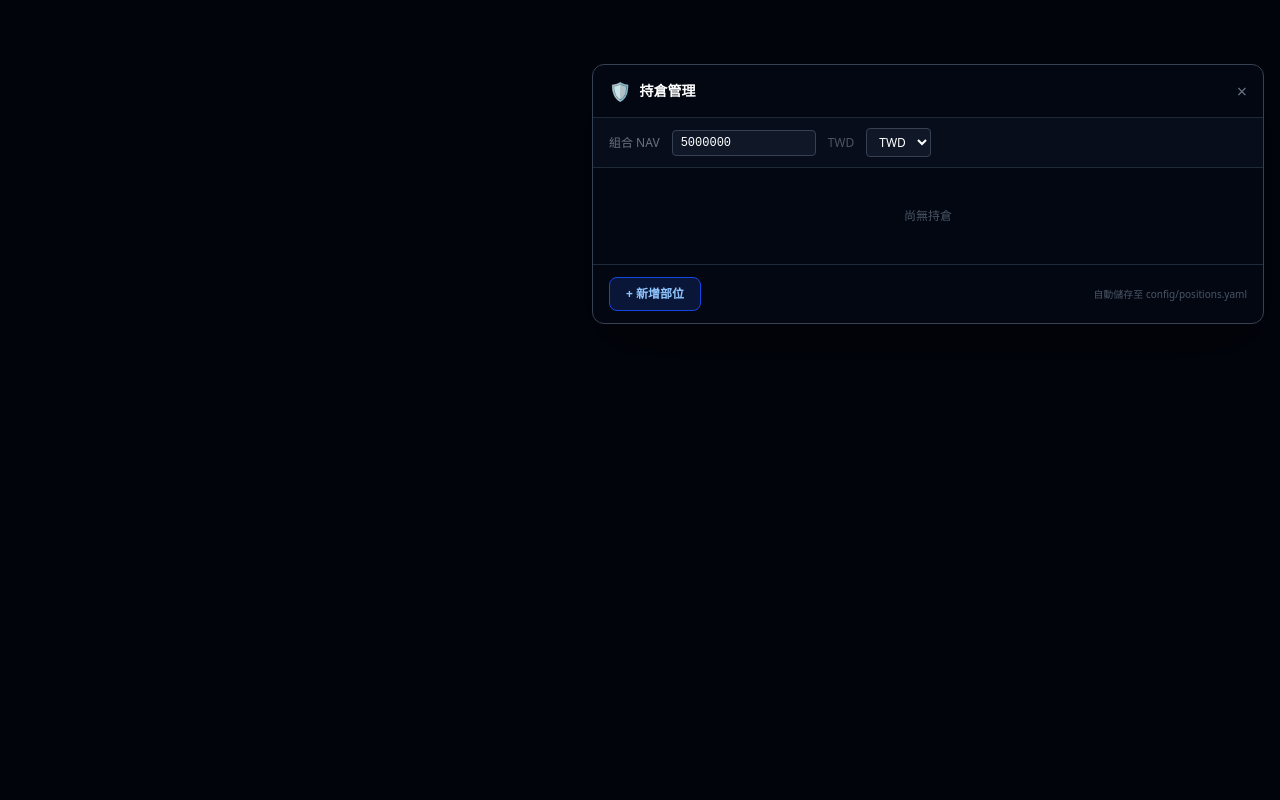
選擇權欄位驗證接線（P2-#9） › 缺 strike 時按儲存不得送出 PUT
Click the button "+ 新增部位" at (655, 294), box [609,277,701,311]
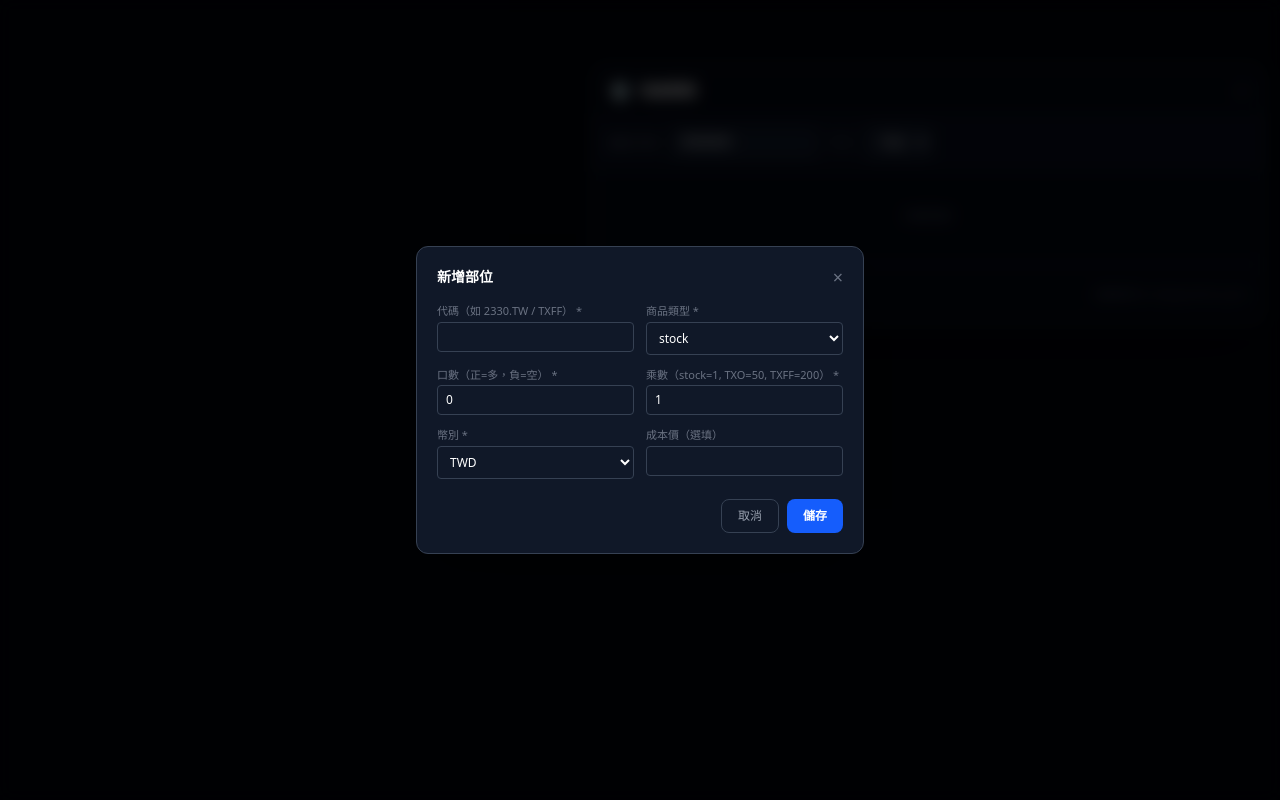
Select "option" in the dropdown named "商品類型" at (744, 338), box [646,322,843,355]
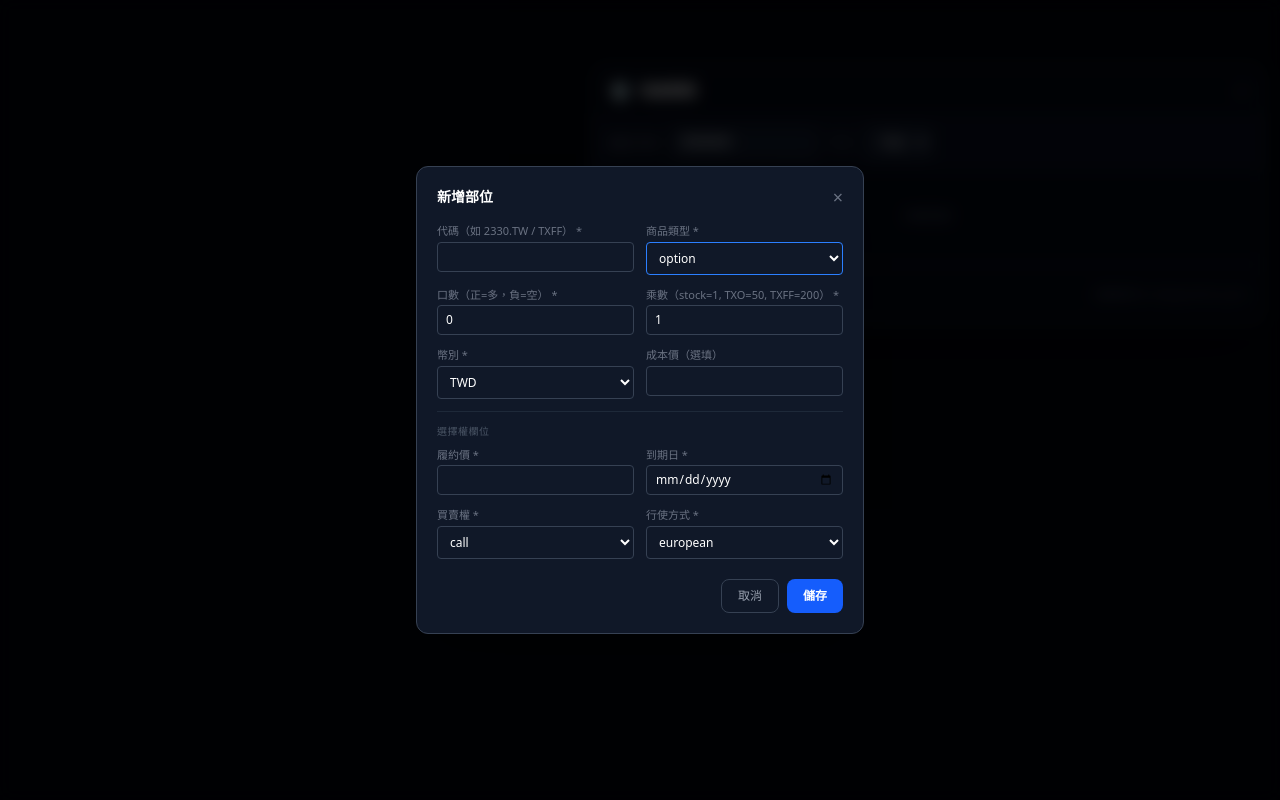
Click the button "儲存" at (815, 596), box [787,579,843,613]
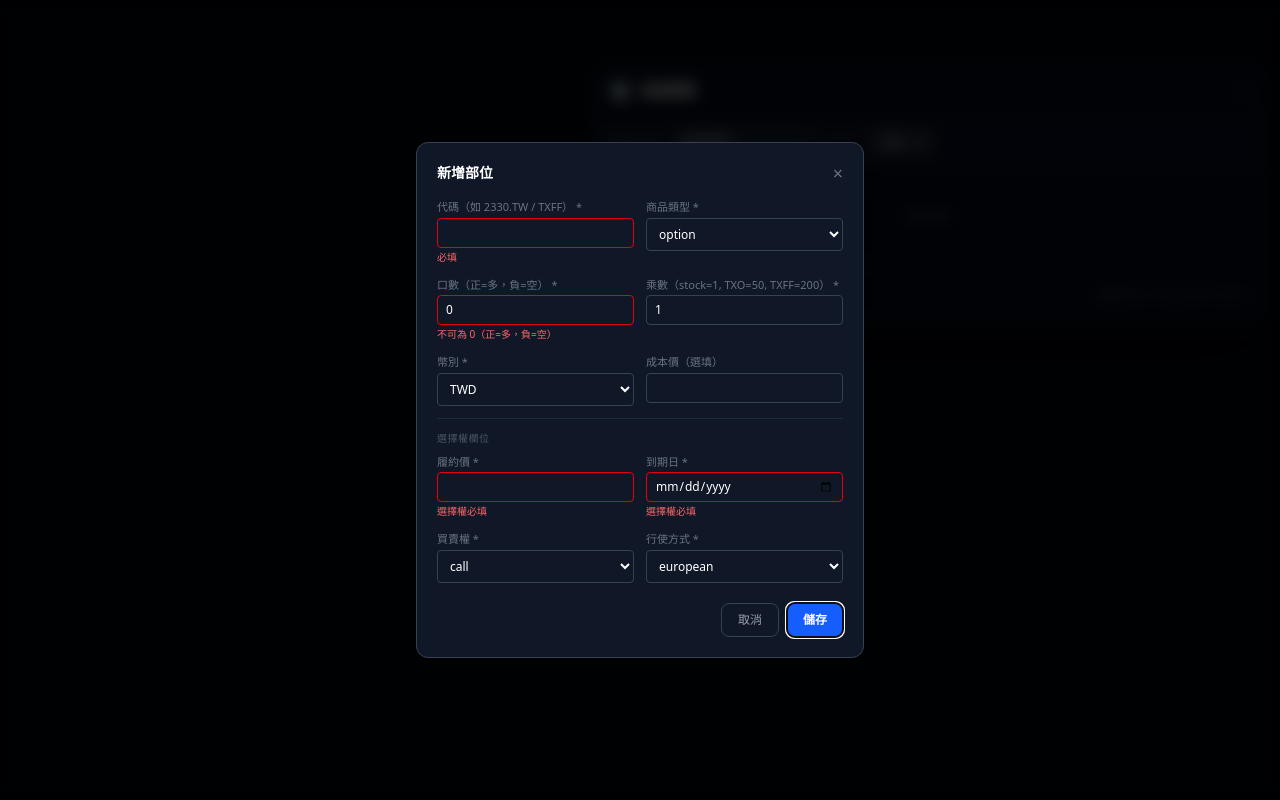
Now the message "必填" is shown, box [437,250,457,264]
